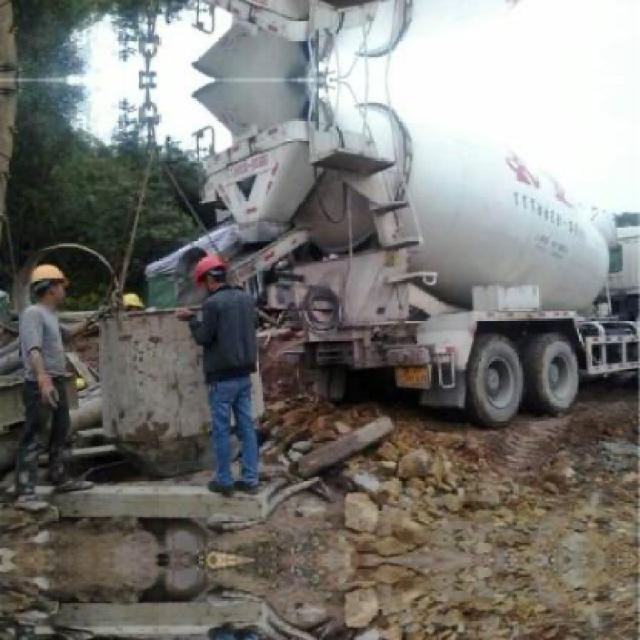con casco: (6, 256, 90, 316), (186, 239, 230, 304)
